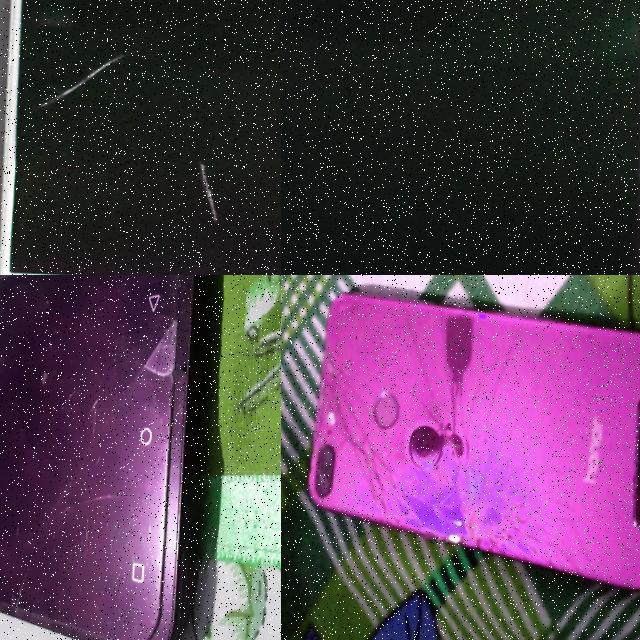scratch: (44, 48, 142, 114), (190, 155, 234, 220)
screen crack: (0, 275, 198, 618)
